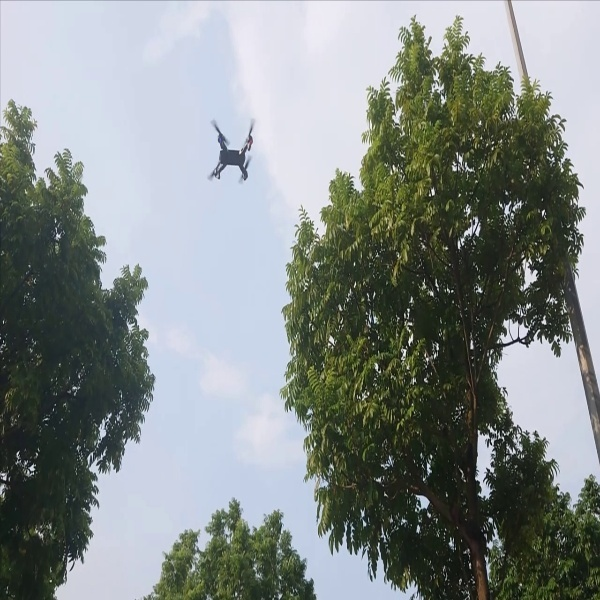drone: (200, 110, 263, 185)
